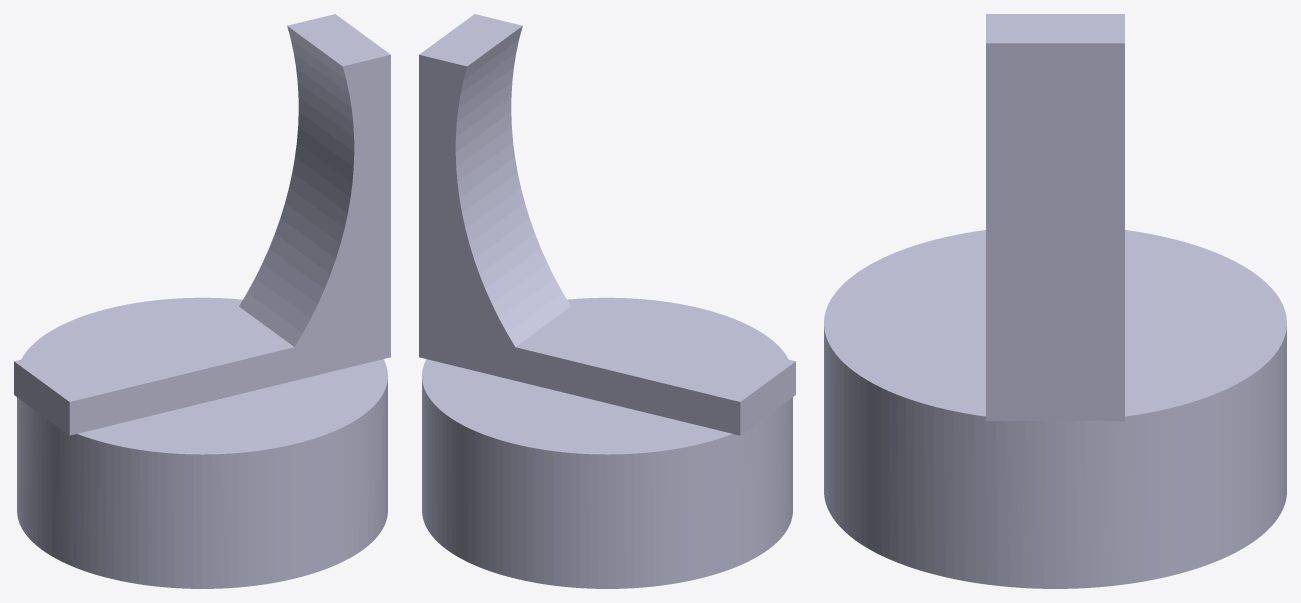
The model's file is Unnamed_base_link_body.dae.
The picture shows the model from 3 angles, left to right: view 1: azimuth 30°, elevation 25°; view 2: azimuth 150°, elevation 25°; view 3: azimuth 270°, elevation 25°; orthographic projection. The views are drawn at different scales.
Parts seen in each view (by area): view 1: node0; view 2: node0; view 3: node0.
Part boxes in pixels (left/top/right/bottom): node0: left=14, top=14, right=390, bottom=588; node0: left=419, top=14, right=795, bottom=588; node0: left=824, top=14, right=1286, bottom=588.
Bounding box in the file's own units: 0.1 × 0.1 × 0.13.
